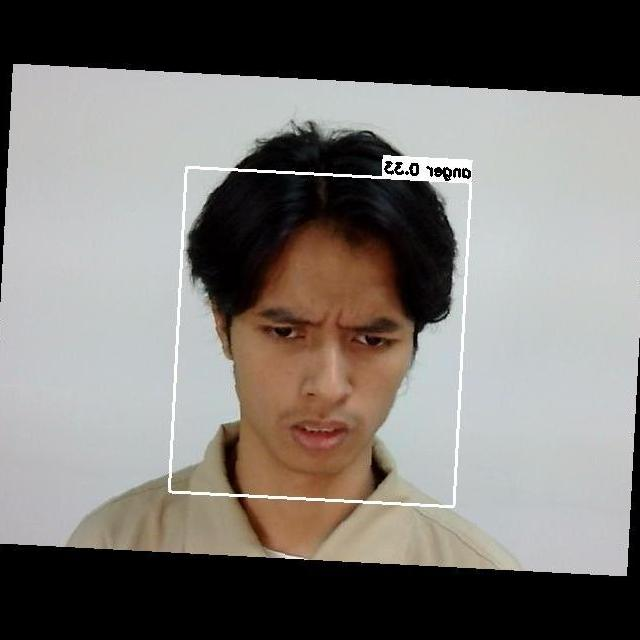Disgust: (225, 272, 418, 475)
